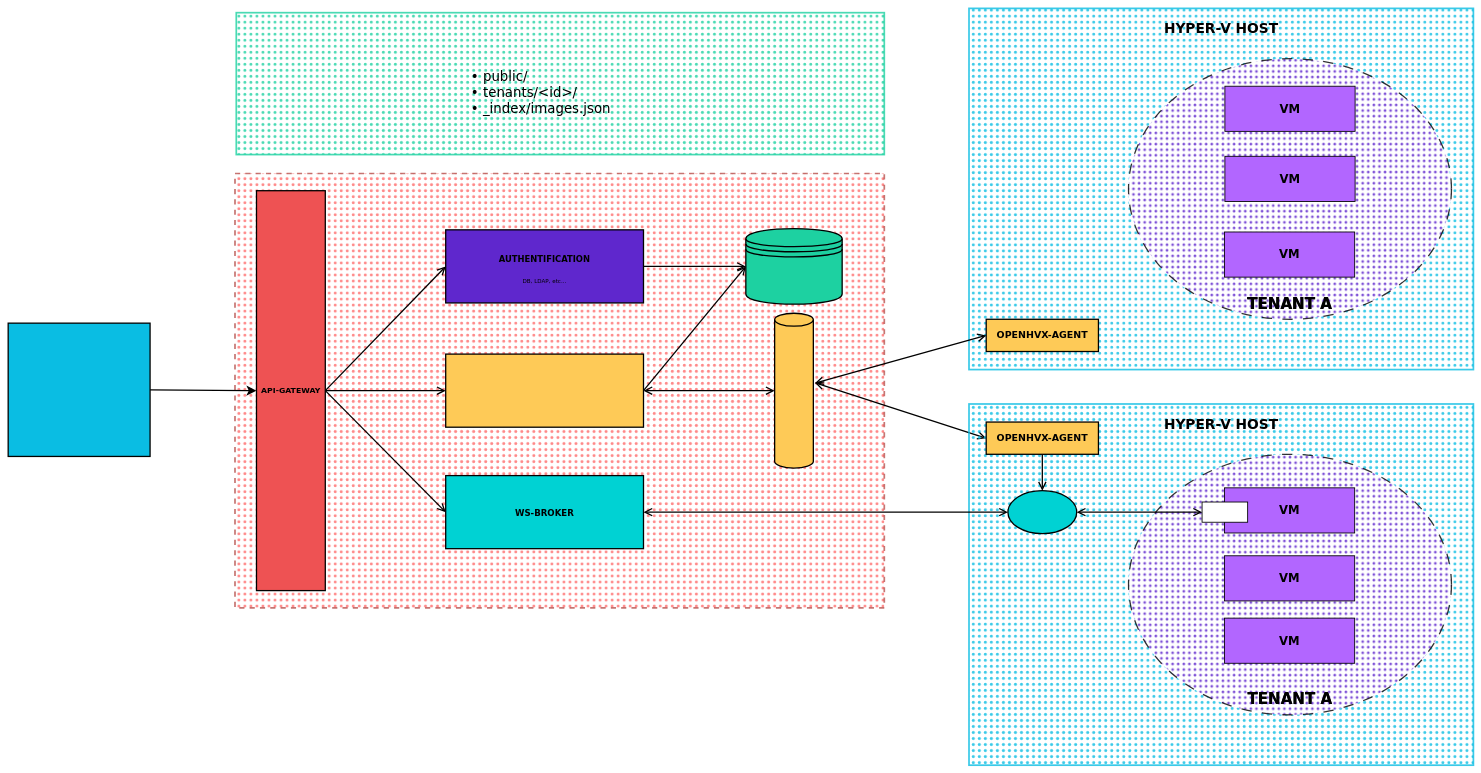
Image size: 1481x773. Some labels were removed from this diagram. The shapes that lost their labels are listed below. From the top down, each one's box as (x1, y1, x2, y2) in pixels, then its label:
(235, 12, 885, 155): Images Repository (SMB)
(745, 228, 843, 305): DATABASE (MONGO)
(7, 322, 150, 457): OPENHVX-CLIENT UI / OTHER
(445, 353, 644, 428): CONTROLLER
(234, 172, 885, 608): OPENHVX-BACKEND
(774, 312, 814, 468): BROKER
(1007, 490, 1077, 534): WS-CLIENT
(1201, 501, 1248, 522): COM1
